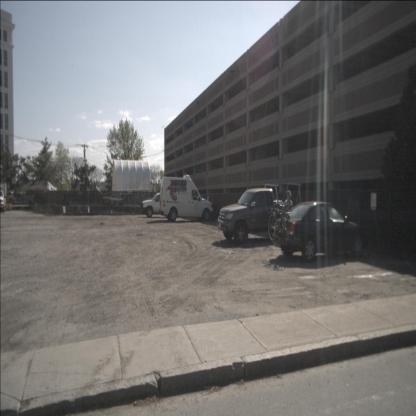human-pedestrian-adult: (283, 190, 294, 248)
vehicle-bicycle: (267, 201, 290, 243)
vehicle-car: (272, 200, 364, 262), (158, 175, 214, 221), (141, 192, 180, 219)
vehicle-truck: (217, 188, 302, 244), (116, 193, 147, 211), (110, 193, 139, 210), (8, 191, 34, 209), (0, 190, 6, 212)
